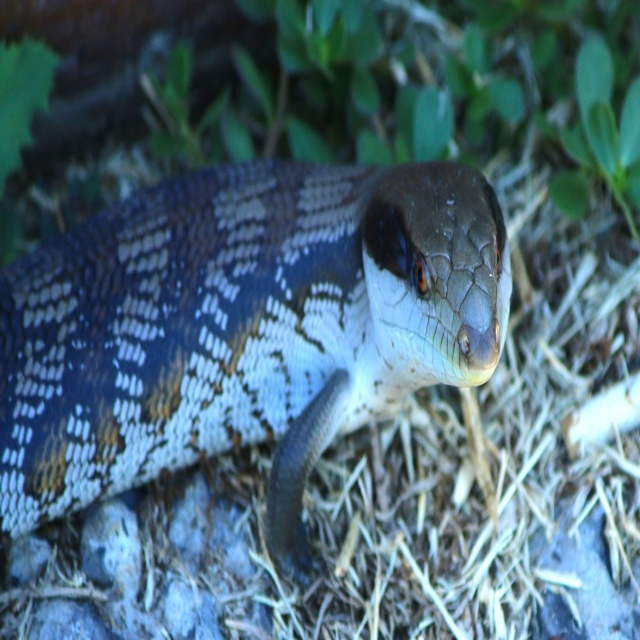Lizard: (0, 163, 506, 588)
